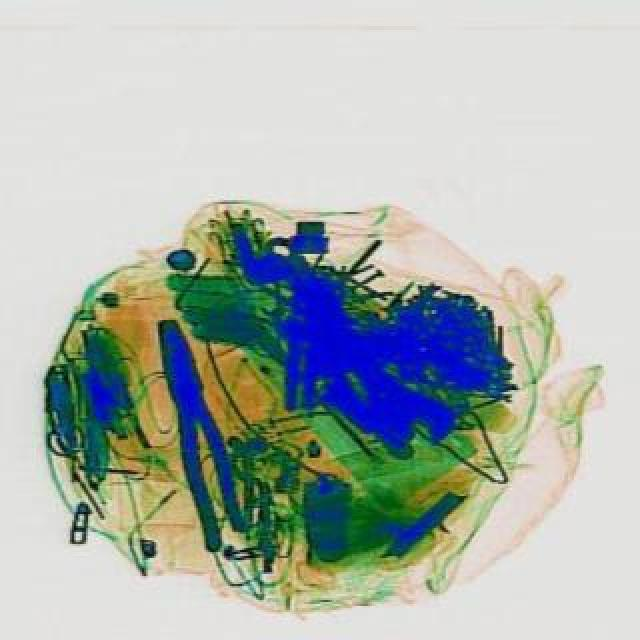scissors: (246, 222, 468, 470)
wrench: (148, 316, 256, 558)
